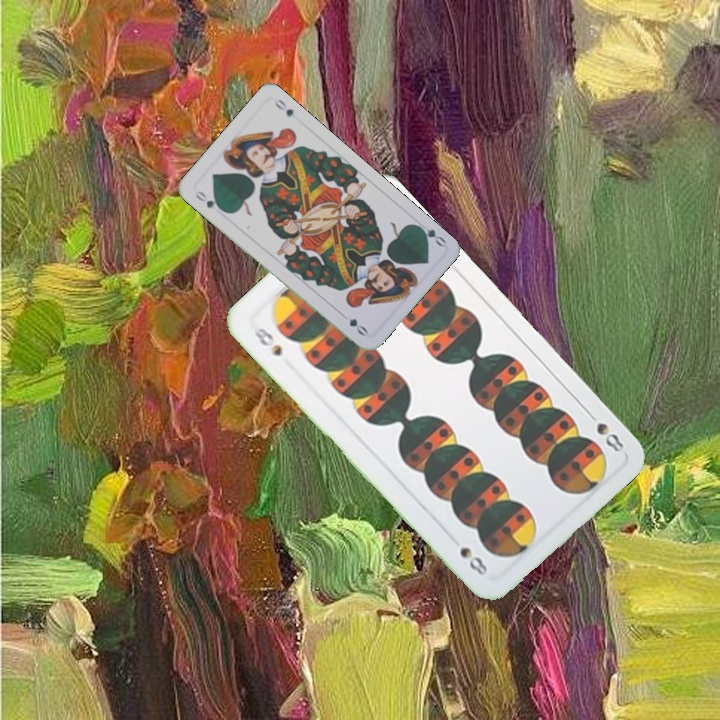GO: (411, 220, 448, 249), (191, 187, 226, 214)
S8: (581, 406, 627, 455), (250, 324, 285, 359)
